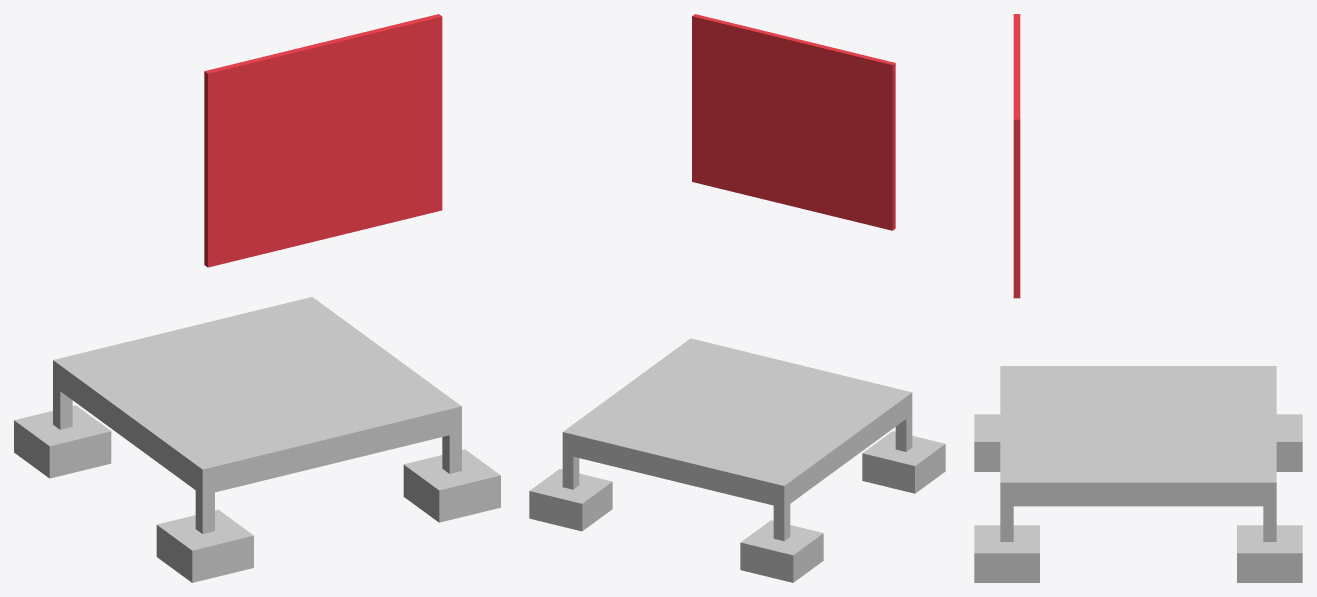
File: with_custom_prop.glb
3 renders of one model, left to right at view 1: azimuth 30°, elevation 25°; view 2: azimuth 150°, elevation 25°; view 3: azimuth 270°, elevation 25°, orthographic. The views are drawn at different scales.
Parts seen in each view (by area): view 1: IfcWall/Wall, IfcSlab/Slab, IfcBeam/Beam.002, IfcBeam/Beam.001, IfcFooting/Footing.001, IfcFooting/Footing, IfcFooting/Footing.002, IfcBeam/Beam, IfcBeam/Beam.003, IfcColumn/Column.003, IfcColumn/Column.002, IfcColumn/Column; view 2: IfcWall/Wall, IfcSlab/Slab, IfcBeam/Beam, IfcBeam/Beam.001, IfcFooting/Footing, IfcFooting/Footing.001, IfcFooting/Footing.003, IfcBeam/Beam.002, IfcBeam/Beam.003, IfcColumn/Column, IfcColumn/Column.001, IfcColumn/Column.003; view 3: IfcSlab/Slab, IfcBeam/Beam.003, IfcFooting/Footing.002, IfcFooting/Footing.003, IfcWall/Wall, IfcFooting/Footing, IfcFooting/Footing.001, IfcBeam/Beam.001, IfcBeam/Beam, IfcBeam/Beam.002, IfcColumn/Column.001, IfcColumn/Column.002.
Part boxes in pixels (x1,y1,x2,y2): IfcWall/Wall: [204, 14, 442, 267]; IfcSlab/Slab: [73, 305, 441, 461]; IfcBeam/Beam.002: [208, 404, 449, 492]; IfcBeam/Beam.001: [60, 362, 207, 489]; IfcFooting/Footing.001: [14, 405, 111, 478]; IfcFooting/Footing: [156, 509, 253, 582]; IfcFooting/Footing.002: [403, 449, 500, 522]; IfcBeam/Beam: [66, 300, 306, 362]; IfcBeam/Beam.003: [307, 302, 454, 403]; IfcColumn/Column.003: [195, 461, 214, 533]; IfcColumn/Column.002: [442, 401, 461, 473]; IfcColumn/Column: [53, 357, 72, 429]; IfcWall/Wall: [692, 14, 895, 230]; IfcSlab/Slab: [580, 345, 894, 478]; IfcBeam/Beam: [573, 430, 779, 505]; IfcBeam/Beam.001: [780, 394, 906, 503]; IfcFooting/Footing: [862, 431, 945, 493]; IfcFooting/Footing.001: [740, 520, 823, 582]; IfcFooting/Footing.003: [529, 469, 612, 531]; IfcBeam/Beam.002: [695, 341, 901, 394]; IfcBeam/Beam.003: [569, 343, 694, 429]; IfcColumn/Column: [773, 479, 790, 541]; IfcColumn/Column.001: [562, 427, 579, 489]; IfcColumn/Column.003: [895, 390, 912, 451]; IfcSlab/Slab: [1013, 371, 1263, 476]; IfcBeam/Beam.003: [1013, 477, 1263, 506]; IfcFooting/Footing.002: [974, 525, 1039, 582]; IfcFooting/Footing.003: [1237, 525, 1302, 582]; IfcWall/Wall: [1013, 14, 1020, 298]; IfcFooting/Footing: [974, 414, 1000, 471]; IfcFooting/Footing.001: [1276, 414, 1302, 471]; IfcBeam/Beam.001: [1013, 366, 1263, 371]; IfcBeam/Beam: [1263, 371, 1276, 476]; IfcBeam/Beam.002: [1000, 371, 1013, 476]; IfcColumn/Column.001: [1263, 477, 1276, 541]; IfcColumn/Column.002: [1000, 477, 1013, 541].
Size of the model in its own units: 5 by 7.5 by 5.
